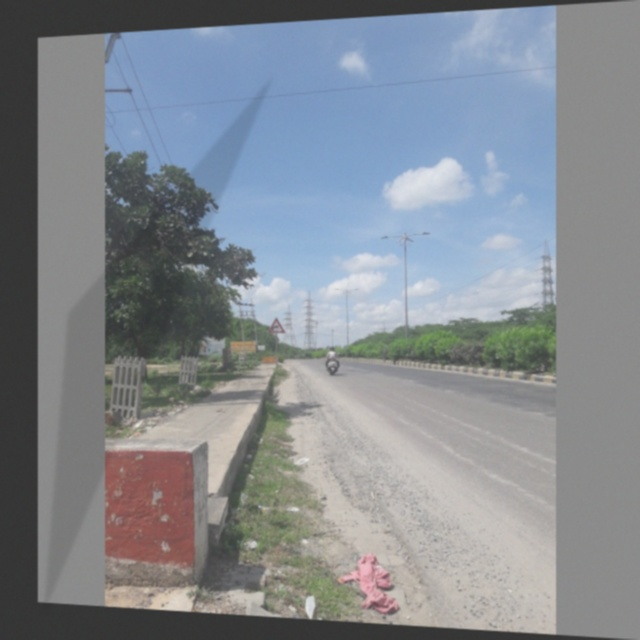Right_Hand_Curve: (268, 318, 283, 333)
